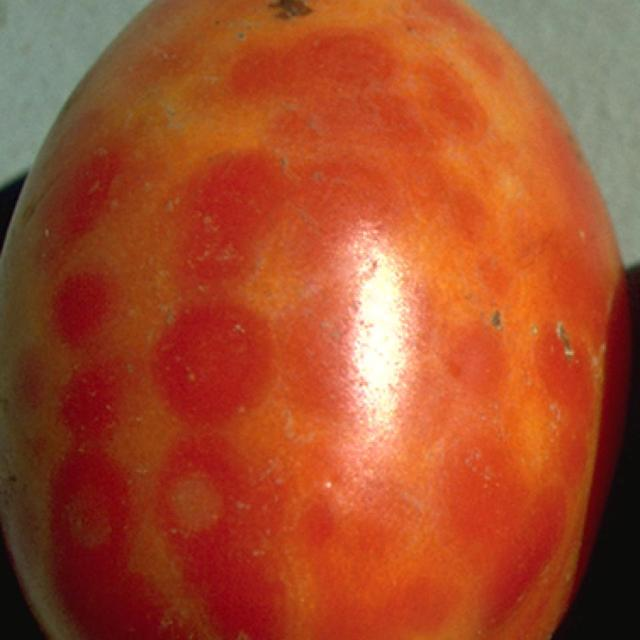Spotted wilt Virus Fruit: (71, 0, 135, 21)
